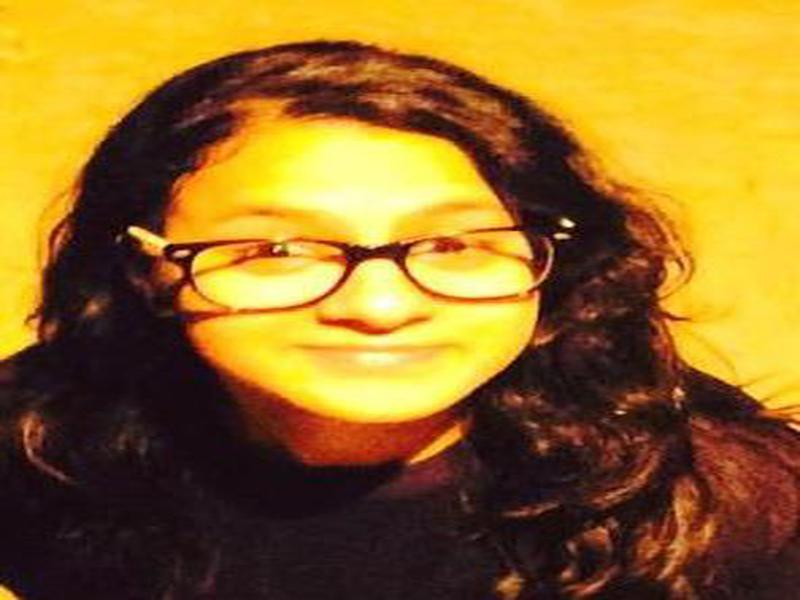without_mask: (160, 154, 537, 420)
